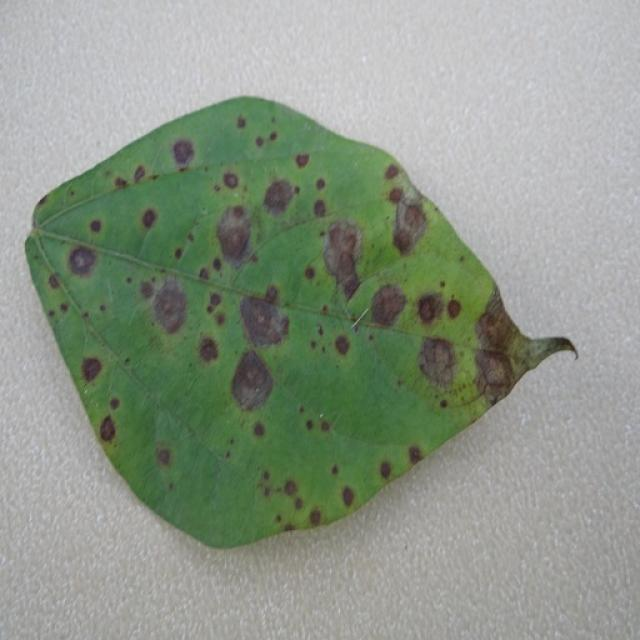Anthracnose: (39, 251, 101, 338), (224, 345, 283, 414), (319, 220, 365, 301), (139, 273, 192, 340), (238, 294, 288, 346), (392, 197, 430, 256), (215, 206, 254, 263), (416, 337, 458, 388), (475, 304, 513, 352), (368, 284, 408, 327), (477, 353, 511, 392), (262, 179, 296, 214), (67, 245, 98, 277), (416, 294, 444, 325), (80, 354, 104, 385), (256, 469, 278, 500), (171, 139, 195, 166), (98, 413, 116, 443), (554, 337, 577, 360), (198, 336, 219, 361), (141, 208, 158, 229), (334, 335, 350, 356), (222, 171, 240, 189), (156, 446, 171, 467), (408, 446, 424, 465), (447, 299, 462, 319), (341, 486, 355, 507), (265, 284, 279, 304), (388, 186, 404, 203), (283, 479, 298, 497), (140, 280, 154, 299), (313, 199, 327, 218), (379, 461, 392, 480), (295, 153, 310, 169), (384, 164, 399, 180), (133, 165, 146, 183), (48, 273, 61, 290), (309, 509, 322, 525), (209, 292, 222, 308), (232, 205, 246, 219), (89, 219, 102, 233), (114, 177, 128, 190), (304, 266, 316, 280), (198, 267, 210, 281), (212, 257, 222, 272), (315, 178, 326, 191), (109, 397, 120, 410), (214, 313, 225, 326), (36, 194, 47, 207), (236, 116, 246, 129), (294, 497, 303, 510), (255, 136, 265, 147), (59, 302, 69, 313), (174, 247, 183, 259), (284, 523, 295, 532), (331, 464, 339, 476), (321, 421, 330, 431), (269, 131, 278, 141), (306, 419, 314, 430), (262, 470, 270, 481), (322, 305, 329, 314), (310, 340, 317, 349), (317, 325, 323, 335), (275, 514, 282, 522), (439, 280, 446, 288), (168, 482, 174, 491), (48, 310, 55, 317), (126, 276, 132, 284), (225, 451, 231, 459), (459, 255, 465, 262), (271, 116, 276, 123), (34, 255, 39, 260)
Blackgram: (25, 99, 575, 545)
